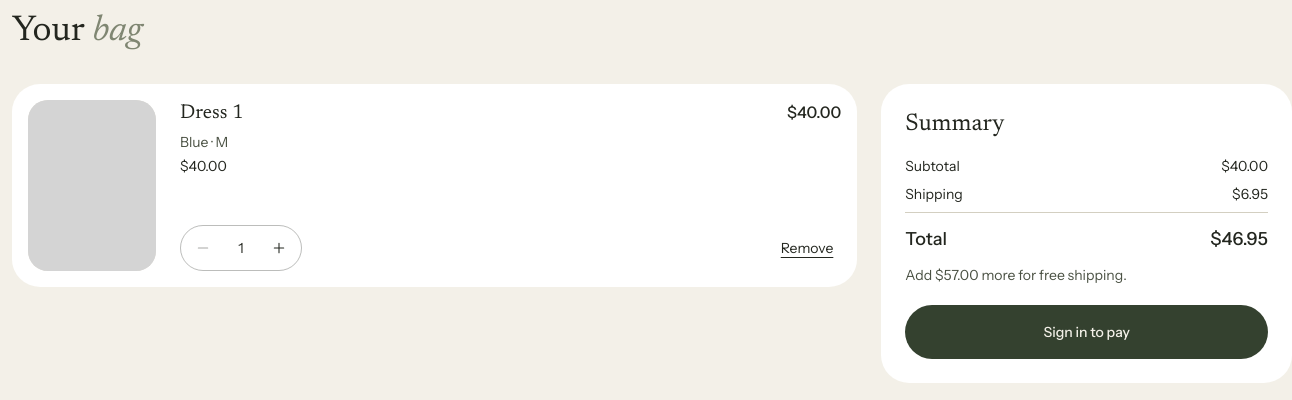
Test: CartPage › a guest changing the bag › removes a line, and shows the empty bag after the last one
Expected: the link "Dress 1" is shown, [180, 103, 243, 123]
Click the button with aria-label "Remove Dress 1" at x=807, y=248, box [773, 226, 841, 270]
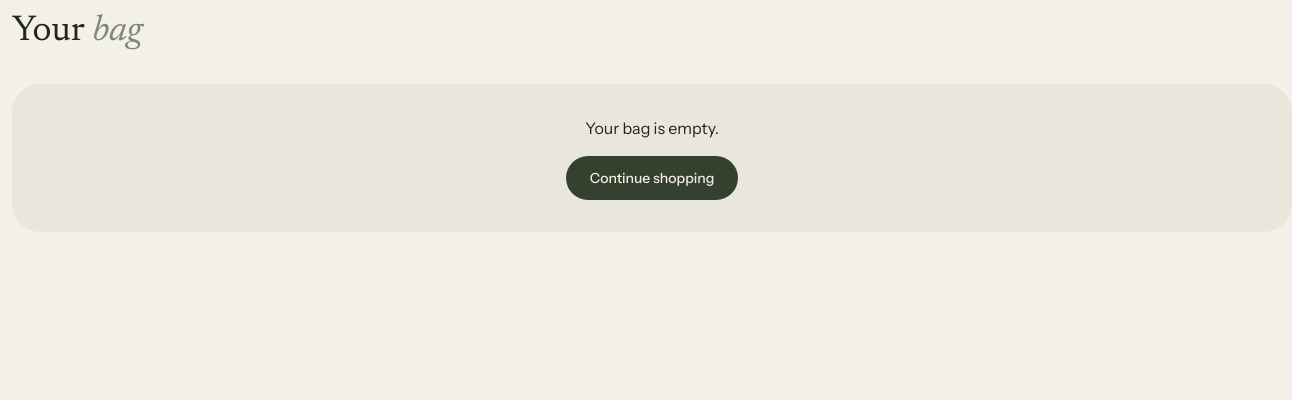
Now the text "Your bag is empty." is shown, box [585, 118, 719, 138]
